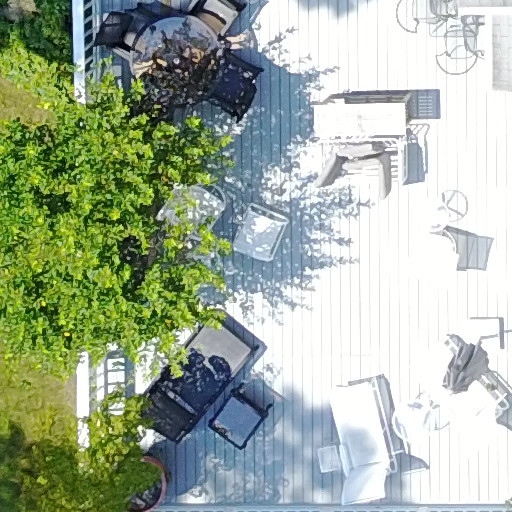pot: (102, 443, 182, 512)
